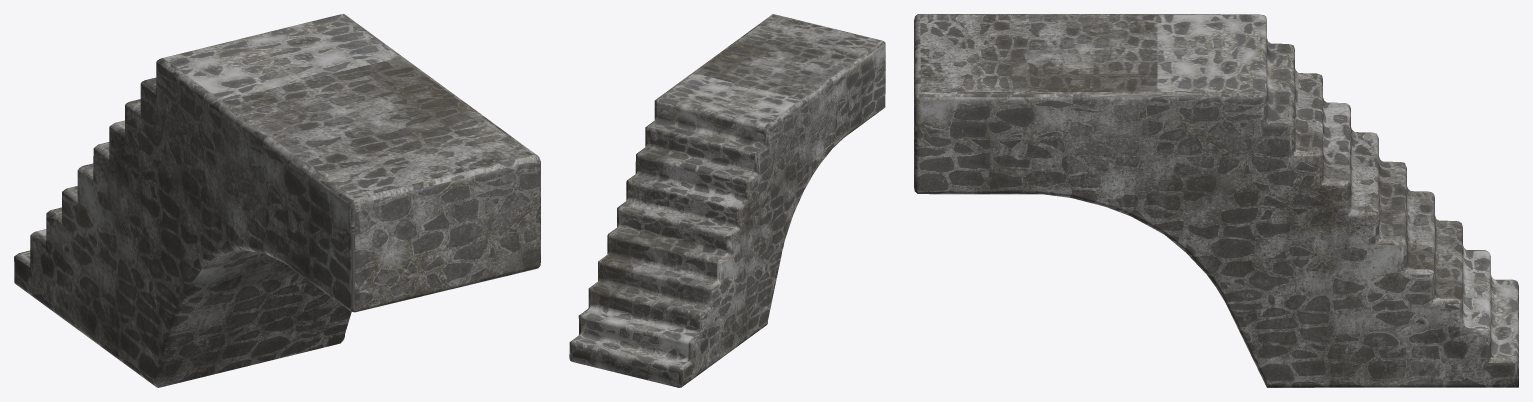
File: SM_Stairs-StoneTall-Curved.fbx
The picture shows the model from 3 angles, left to right: view 1: azimuth 30°, elevation 25°; view 2: azimuth 150°, elevation 25°; view 3: azimuth 270°, elevation 25°; orthographic projection. The views are drawn at different scales.
Visible parts, largest first — view 1: SM_Stairs-StoneTall-Curved_LOD0; view 2: SM_Stairs-StoneTall-Curved_LOD0; view 3: SM_Stairs-StoneTall-Curved_LOD0.
Boxes of the visible parts, x1,y1,x2,y2 form: SM_Stairs-StoneTall-Curved_LOD0: (14, 14, 540, 387); SM_Stairs-StoneTall-Curved_LOD0: (569, 14, 885, 387); SM_Stairs-StoneTall-Curved_LOD0: (914, 14, 1518, 387).
Bounding box in the file's own units: 151 × 465 × 250.
1 material, 1 textured.
